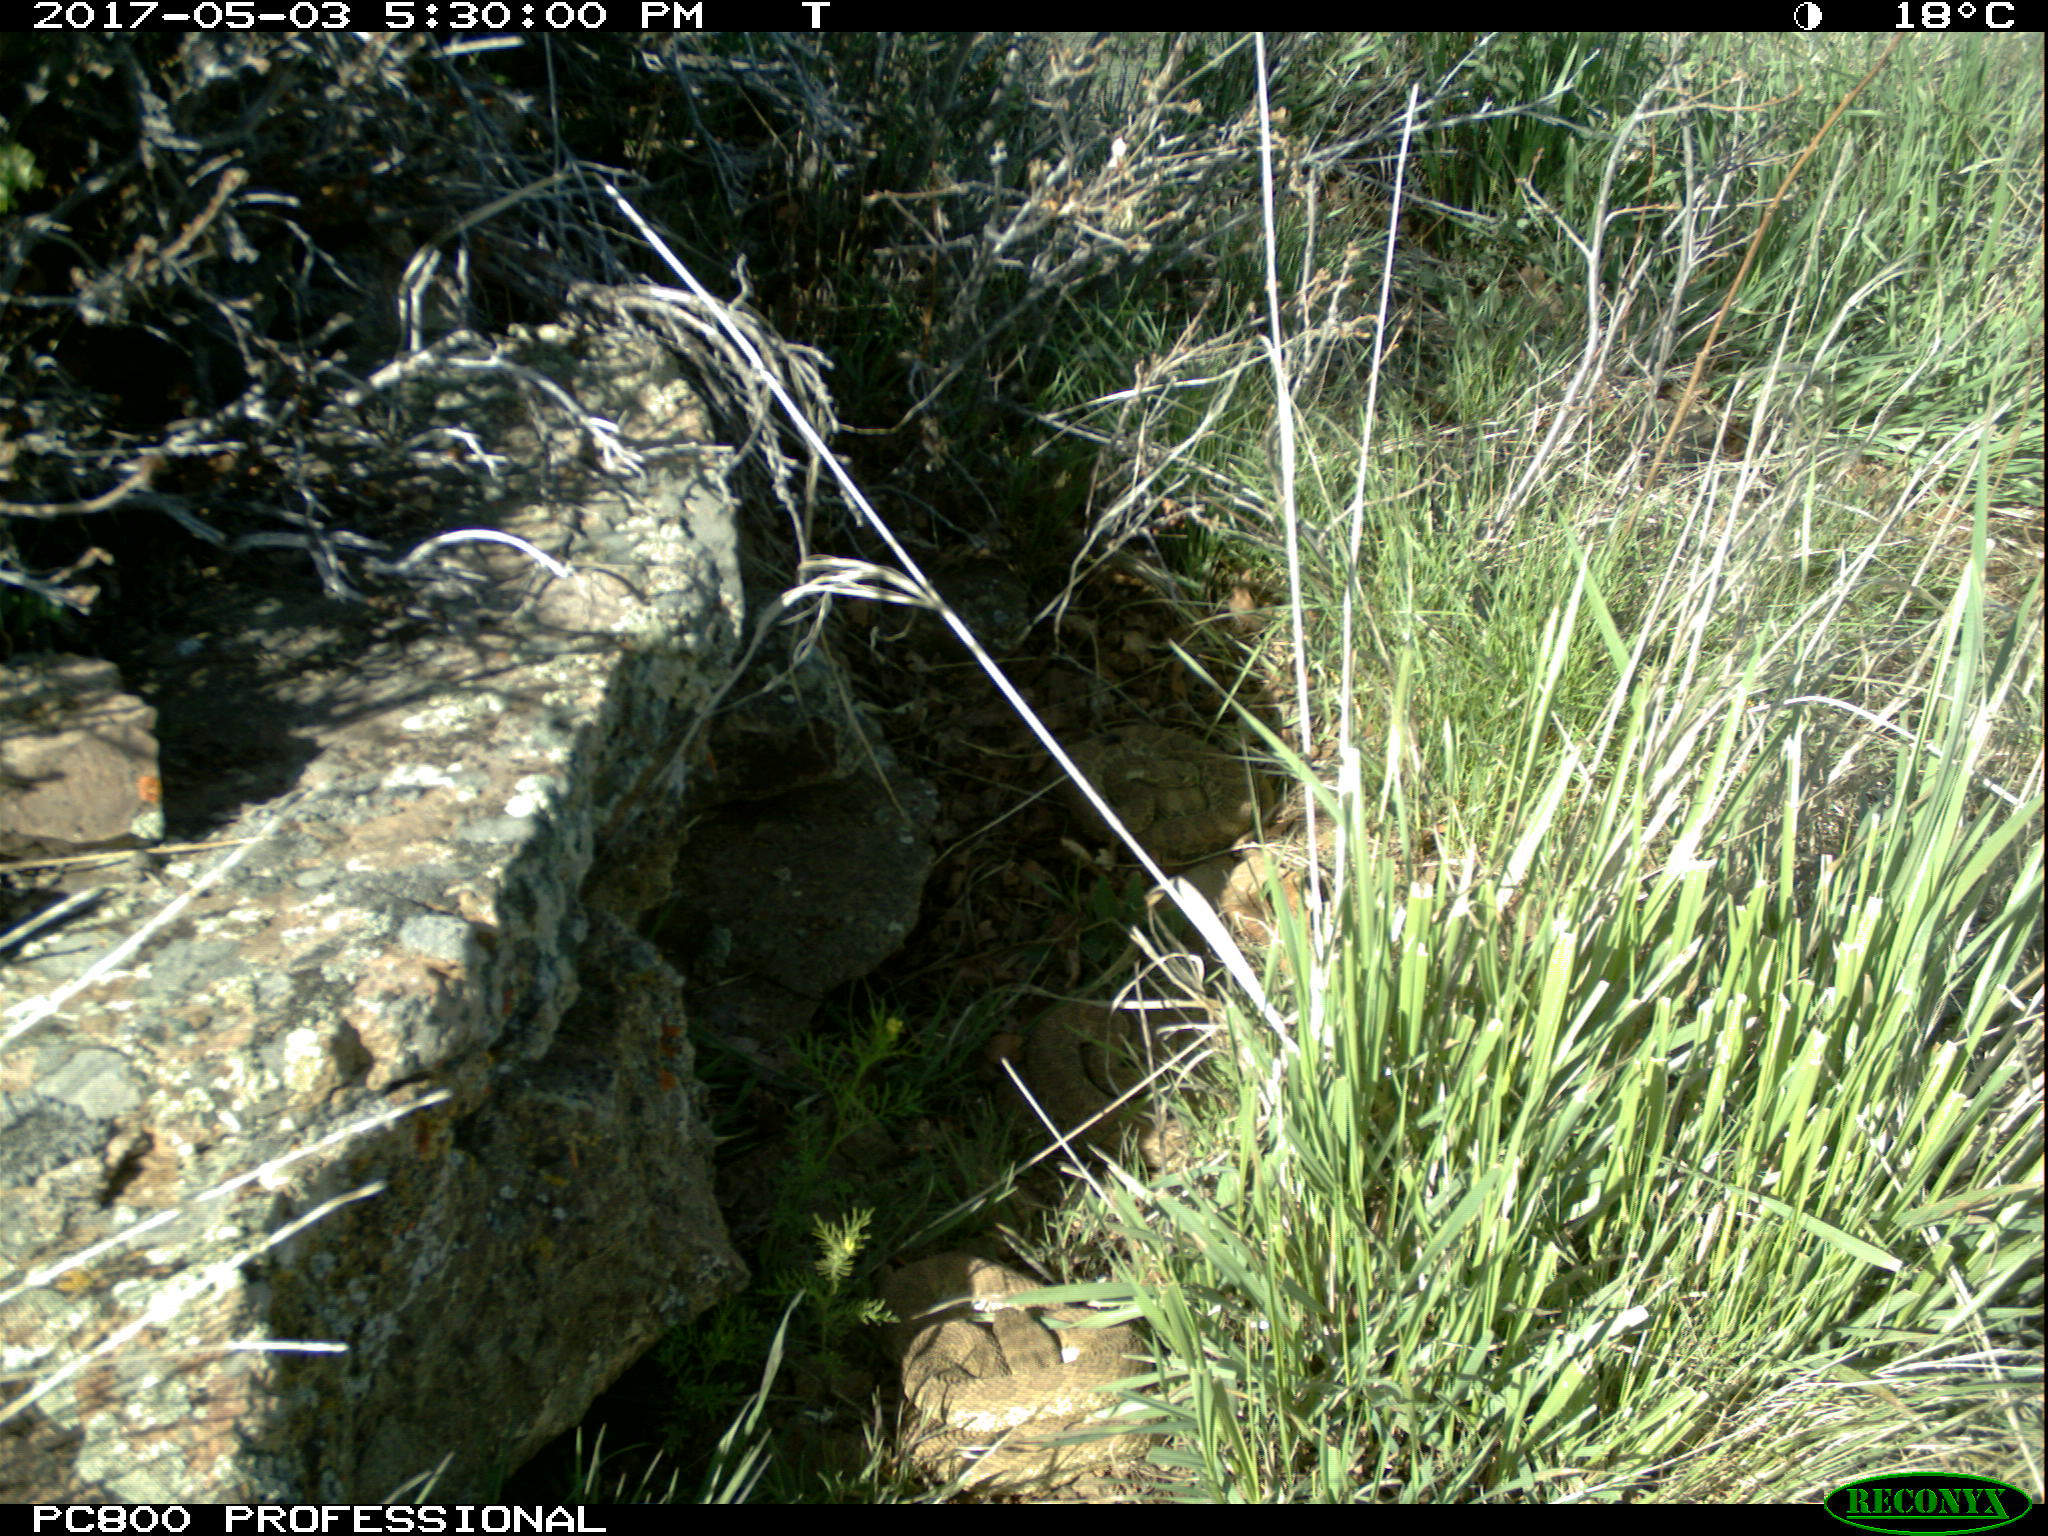snake: (858, 1236, 1164, 1489), (1034, 1000, 1226, 1142), (1068, 731, 1274, 858)
